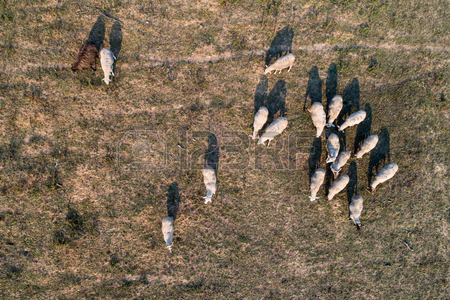sheep: (367, 161, 401, 194), (258, 114, 290, 147), (264, 51, 297, 77), (306, 99, 327, 138), (338, 107, 369, 133), (324, 94, 346, 129), (199, 165, 218, 205), (249, 104, 270, 140), (354, 132, 381, 159), (325, 173, 351, 201), (159, 216, 176, 253), (99, 48, 116, 84), (309, 167, 326, 203), (349, 194, 365, 230)
